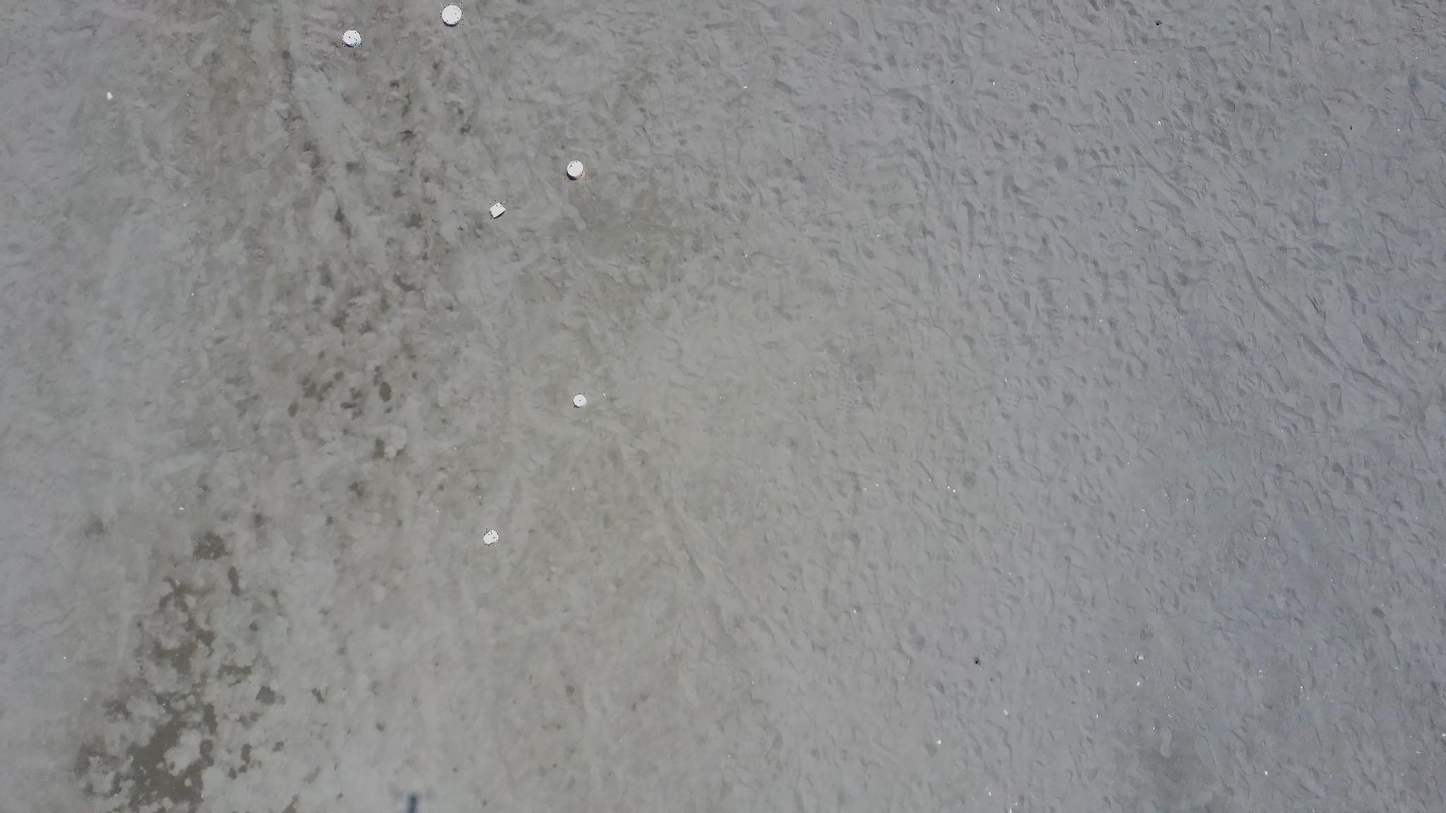Garbage: (441, 4, 461, 25), (566, 161, 585, 179), (342, 30, 362, 47), (488, 201, 504, 218), (482, 529, 498, 545), (573, 395, 585, 408)
